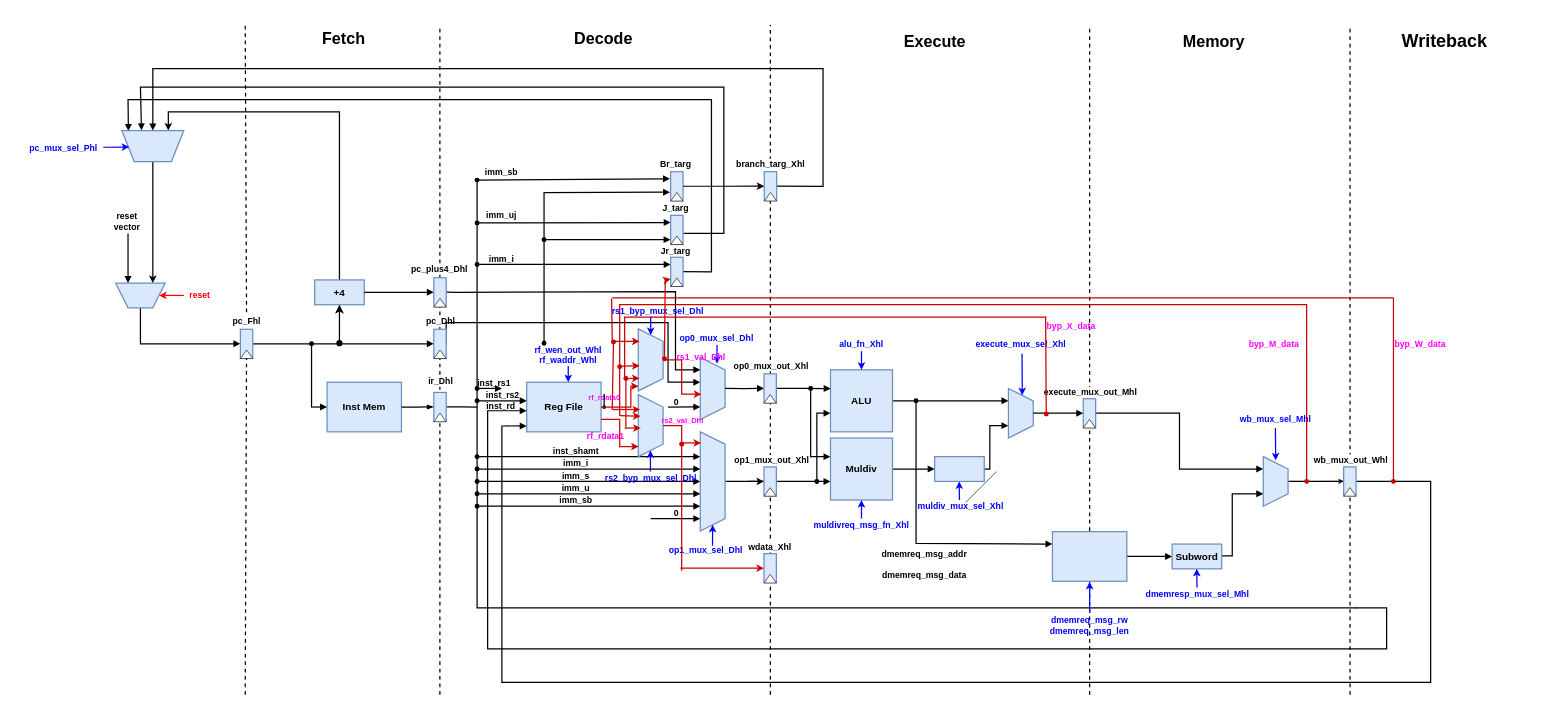
Some shapes in this 1546 by 706 pixel diagram are drawn without their labels. The centre of each missing label's shape, as x and y in pixels:
"Data Mem" belongs at (1089,556).
"Md_mux" belongs at (959,469).
"PC mux" belongs at (152,146).
